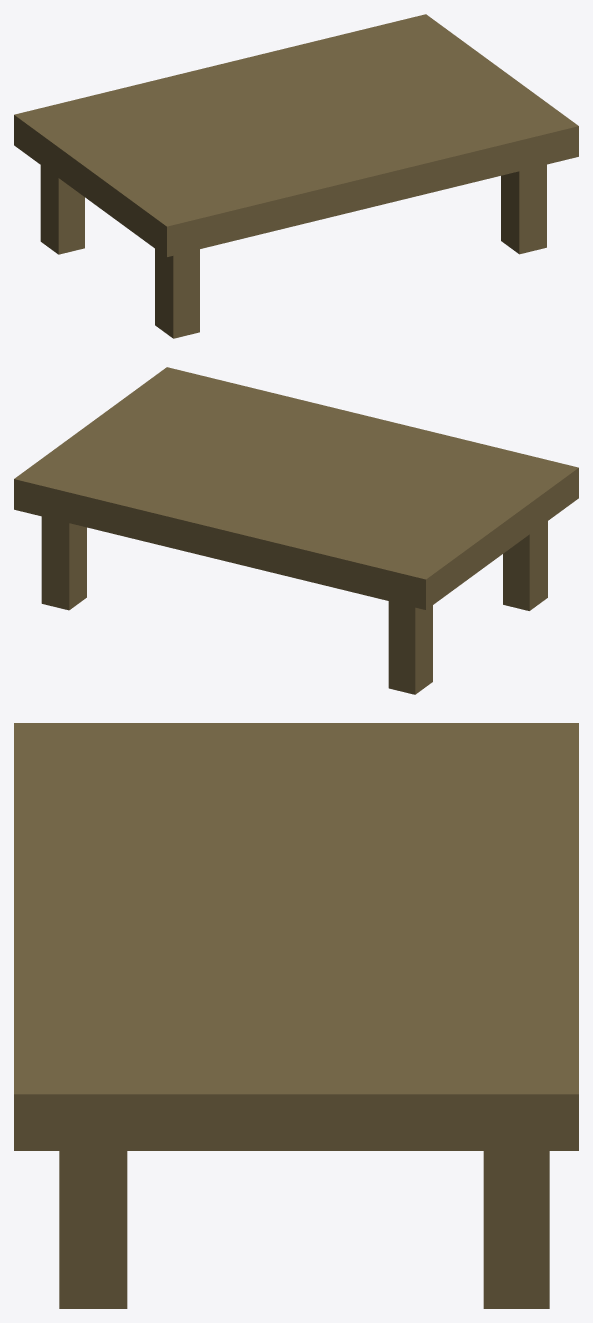
The model's file is CoffeeTable.fbx.
3 renders of one model, top to bottom at view 1: azimuth 30°, elevation 25°; view 2: azimuth 150°, elevation 25°; view 3: azimuth 270°, elevation 25°, orthographic. The views are drawn at different scales.
Visible parts, largest first — view 1: pCube1; view 2: pCube1; view 3: pCube1.
Part boxes in pixels (x1,y1,x2,y2): pCube1: [14, 14, 578, 338]; pCube1: [14, 367, 578, 694]; pCube1: [14, 723, 578, 1308].
Bounding box in the file's own units: 16.22 × 4.73 × 10.43.
